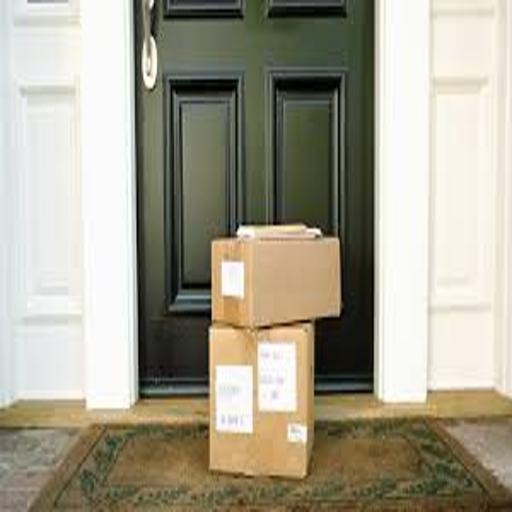Other: (206, 322, 320, 484), (209, 222, 350, 328)
